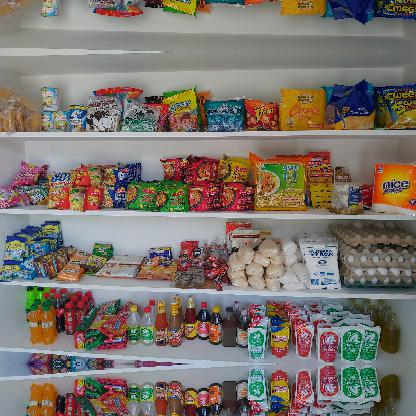Lady-s-Choice: (328, 182, 364, 214)
